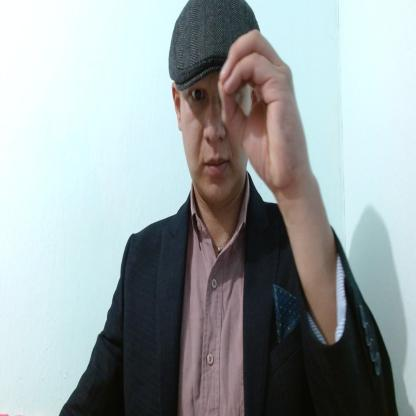O: (218, 27, 310, 194)
